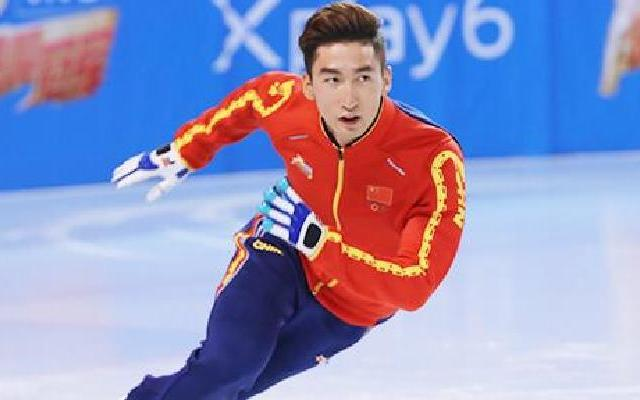wdj: (288, 3, 397, 145)
